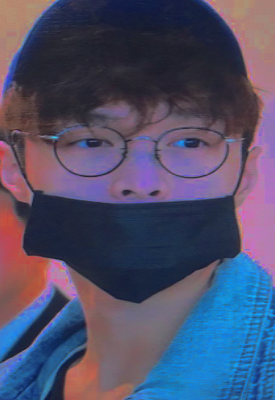mask_weared_incorrect: (20, 107, 243, 304)
